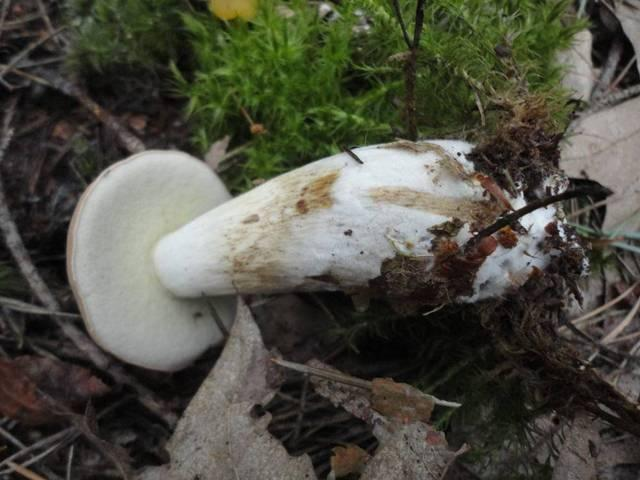edible_mushroom: (67, 136, 578, 368)
